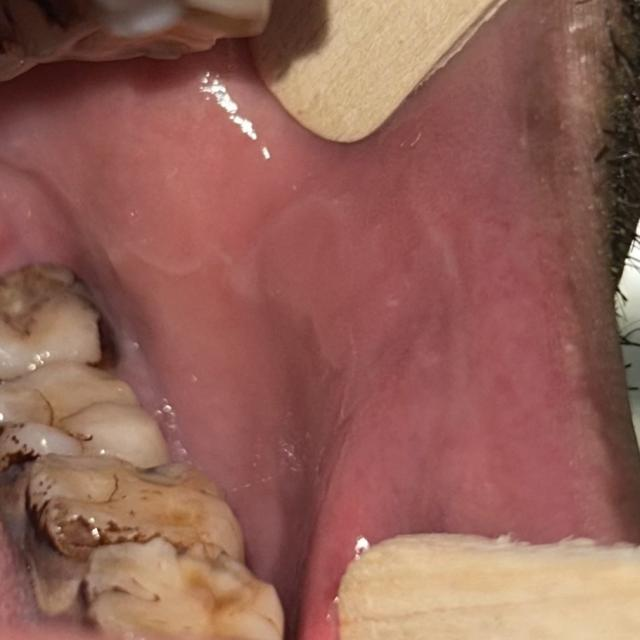leukoplakia-like-detection: (106, 190, 503, 570)
processing_area: (7, 4, 629, 633)
